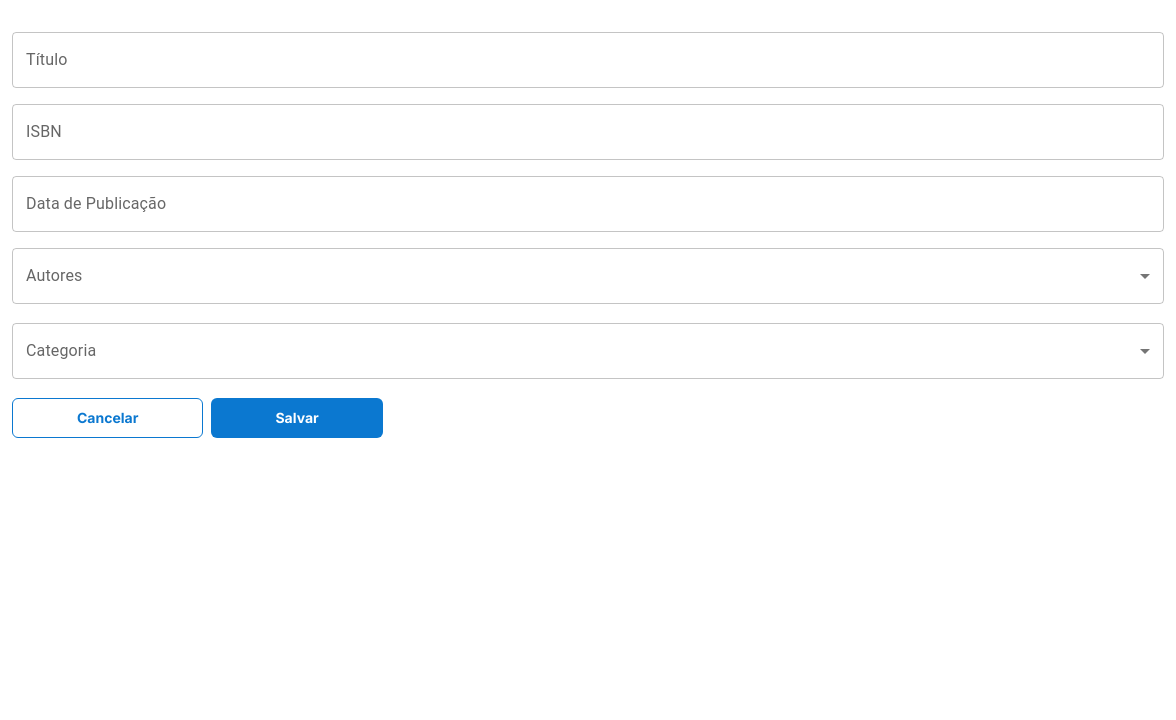
BookUiForm › shows validation errors when submitting invalid data
Click the button "Salvar" at (297, 418), box [211,398,383,438]
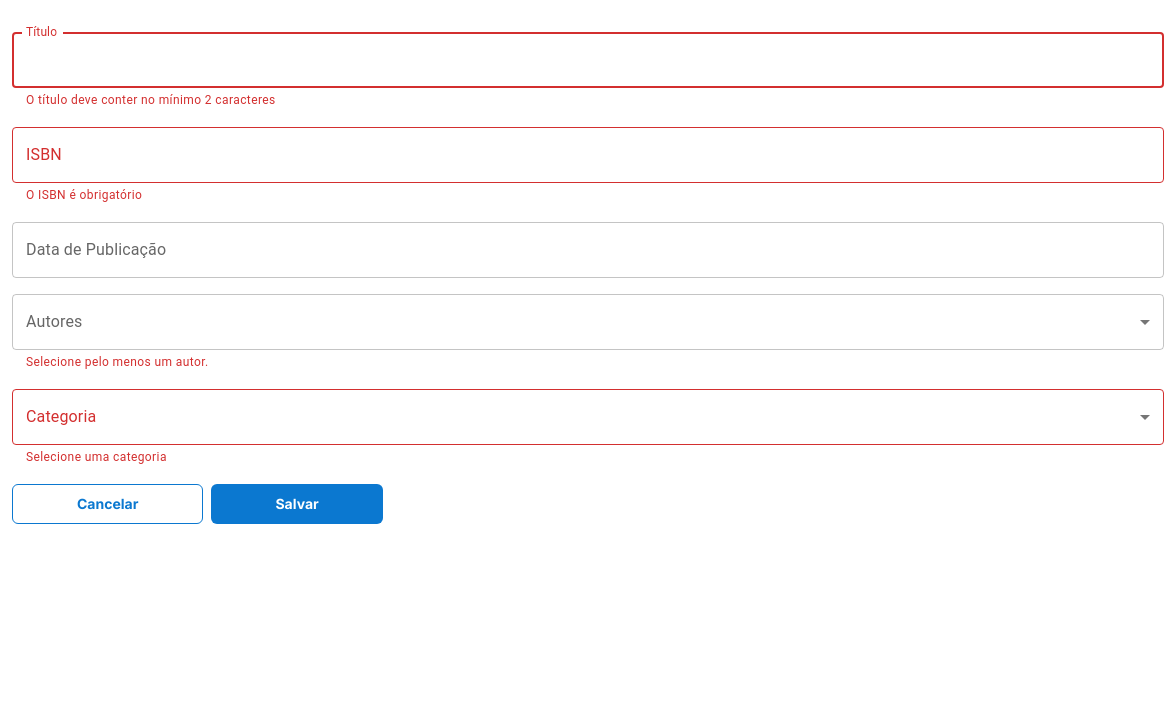
Check: the text "O título deve conter no mínimo 2 caracteres" is shown, box [26,93,276,107]
Check: the text "O ISBN é obrigatório" is shown, box [26,188,142,202]
Check: the text "Selecione uma categoria" is shown, box [26,450,167,464]
